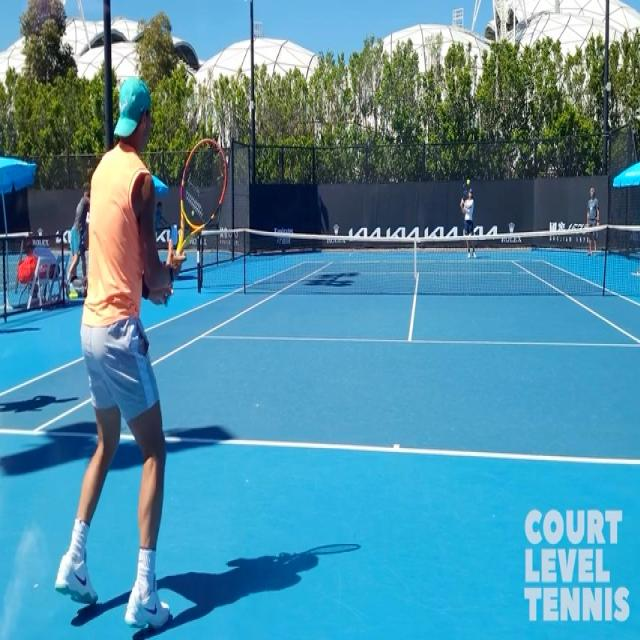ready-position: (45, 75, 224, 635)
